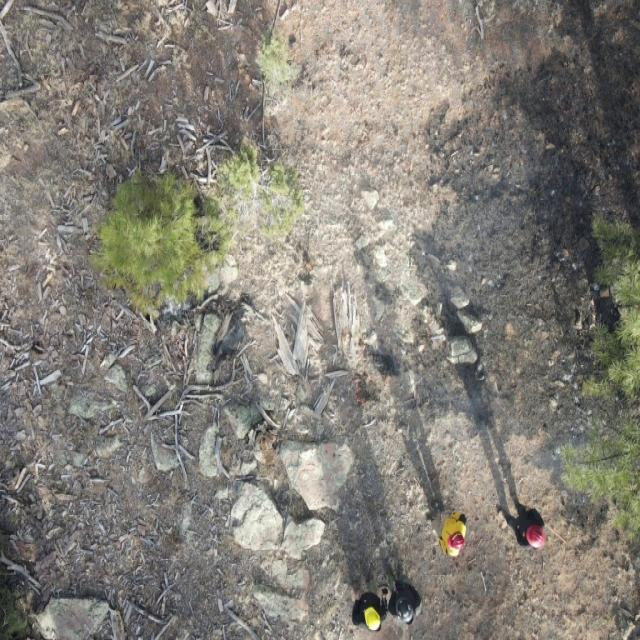fire: (338, 326, 370, 352), (350, 372, 370, 410), (382, 367, 394, 392)
